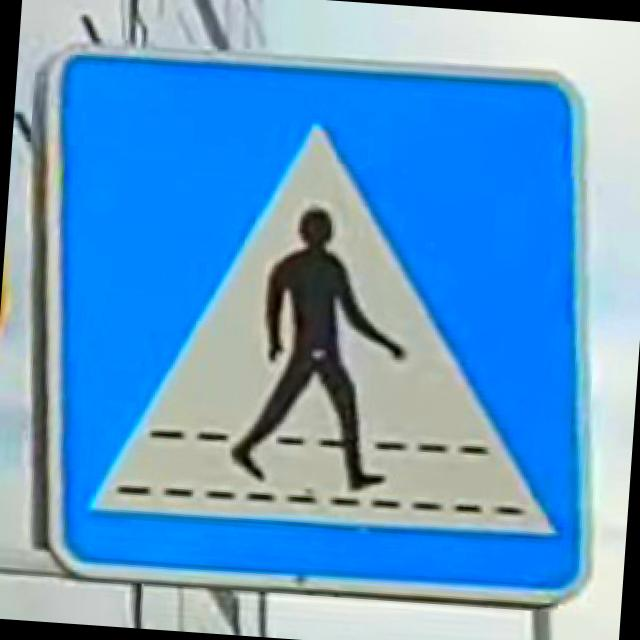zebracrossing_sign: (3, 30, 628, 614)
